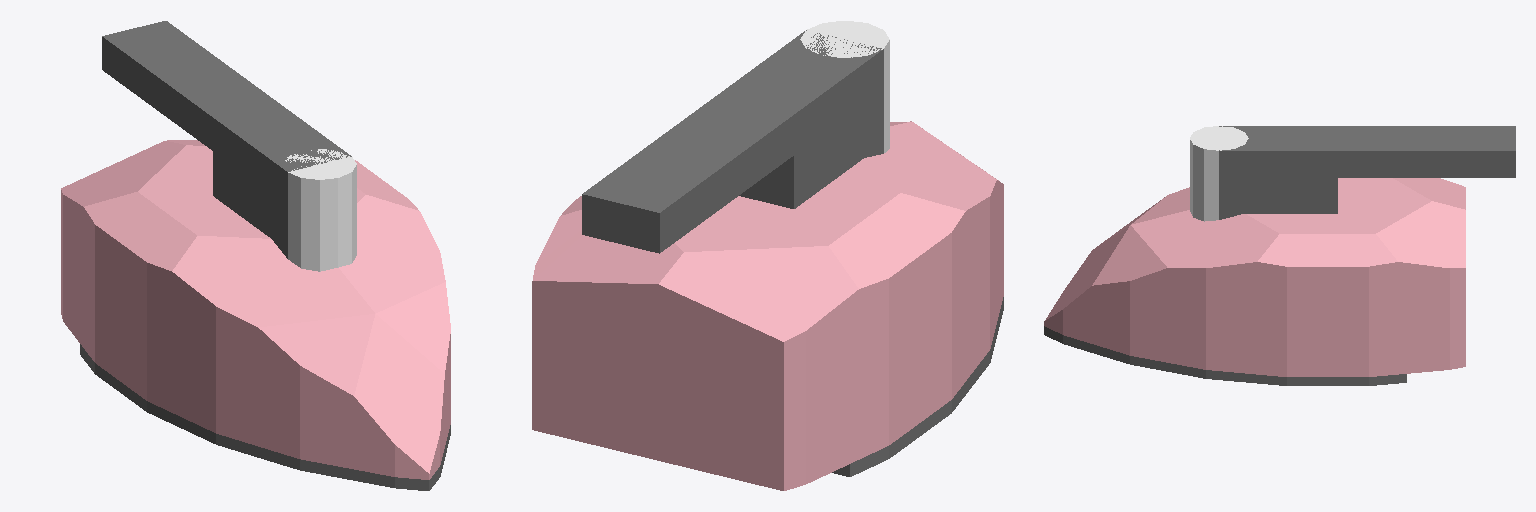
The robot description file, URDF, robot "toshiba-iron":
<?xml version="1.0"?>
<robot name="toshiba-iron"
       xmlns:xi="http://www.w3.org/2001/XInclude"
       xmlns:gazebo="http://playerstage.sourceforge.net/gazebo/xmlschema/#gz"
       xmlns:model="http://playerstage.sourceforge.net/gazebo/xmlschema/#model"
       xmlns:sensor="http://playerstage.sourceforge.net/gazebo/xmlschema/#sensor"
       xmlns:body="http://playerstage.sourceforge.net/gazebo/xmlschema/#body"
       xmlns:geom="http://playerstage.sourceforge.net/gazebo/xmlschema/#geom"
       xmlns:joint="http://playerstage.sourceforge.net/gazebo/xmlschema/#joint"
       xmlns:interface="http://playerstage.sourceforge.net/gazebo/xmlschema/#interface"
       xmlns:rendering="http://playerstage.sourceforge.net/gazebo/xmlschema/#rendering"
       xmlns:renderable="http://playerstage.sourceforge.net/gazebo/xmlschema/#renderable"
       xmlns:controller="http://playerstage.sourceforge.net/gazebo/xmlschema/#controller"
       xmlns:physics="http://playerstage.sourceforge.net/gazebo/xmlschema/#physics">
  <gazebo>
    <static>false</static>
  </gazebo>
  <link name="nil_link">
    <visual>
      <origin xyz="0 0 0" rpy="0 -0 0"/>
      <geometry>
        <mesh filename="model://toshiba-iron/meshes/nil_link_mesh.dae" scale="1 1 1" />
      </geometry>
    </visual>
    <collision>
      <origin xyz="0 0 0" rpy="0 -0 0"/>
      <geometry>
        <mesh filename="model://toshiba-iron/meshes/nil_link_mesh.dae" scale="1 1 1" />
      </geometry>
    </collision>
    <inertial>
      <mass value="0.001" />
      <origin xyz="0 0 0" rpy="0 -0 0"/>
      <inertia ixx="1e-09" ixy="0" ixz="0" iyy="1e-09" iyz="0" izz="1e-09"/>
    </inertial>
  </link>
  <gazebo reference="nil_link">
    <mu1>0.9</mu1>
    <mu2>0.9</mu2>
  </gazebo>
</robot>

--- Render facts (derived) ---
Views: 3 orthographic renders of the robot side by side, from view 1: azimuth 30°, elevation 25°; view 2: azimuth 150°, elevation 25°; view 3: azimuth 270°, elevation 25°.
Model toshiba-iron with 1 links and 0 joints (none), rooted at nil_link, posed all joints at 0.
Links seen in each view (by area): view 1: nil_link; view 2: nil_link; view 3: nil_link.
Boxes of the visible links, box(x1,y1,x2,y2) form: nil_link: box(61, 21, 450, 490); nil_link: box(532, 21, 1003, 490); nil_link: box(1044, 126, 1515, 385).
Size in the robot's own frame: 0.1218 by 0.2384 by 0.11 metres.
Meshes: 1 distinct files referenced, 1 mesh visuals loaded (1 Collada DAE).
